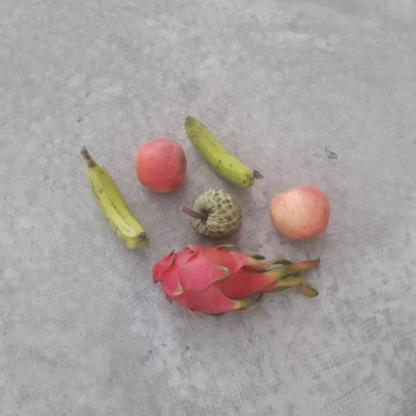annona: (176, 162, 230, 220)
apple: (267, 182, 330, 244), (131, 136, 191, 195)
banana: (79, 154, 153, 254), (183, 110, 262, 188)
pitaya: (152, 243, 275, 317)
